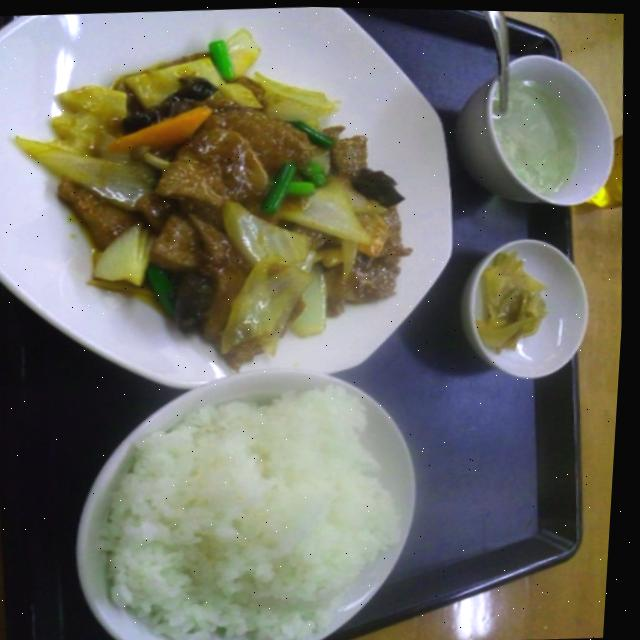米饭主食: (0, 489, 535, 640)
